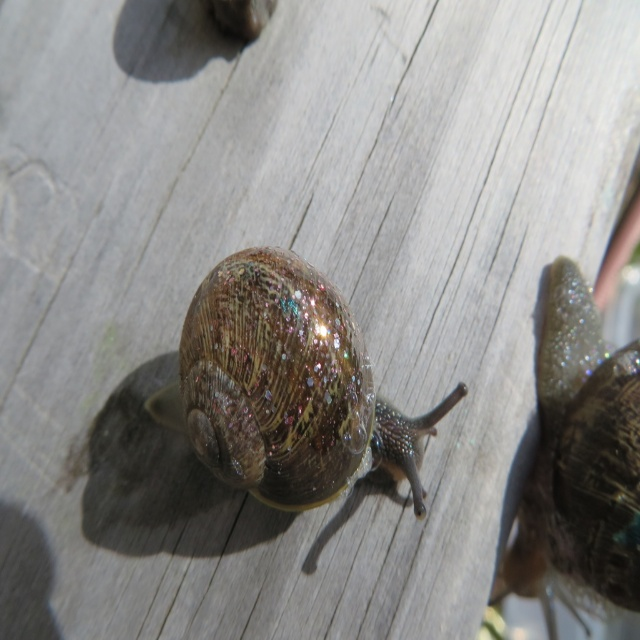Snail: (156, 241, 473, 532), (481, 250, 640, 639)
